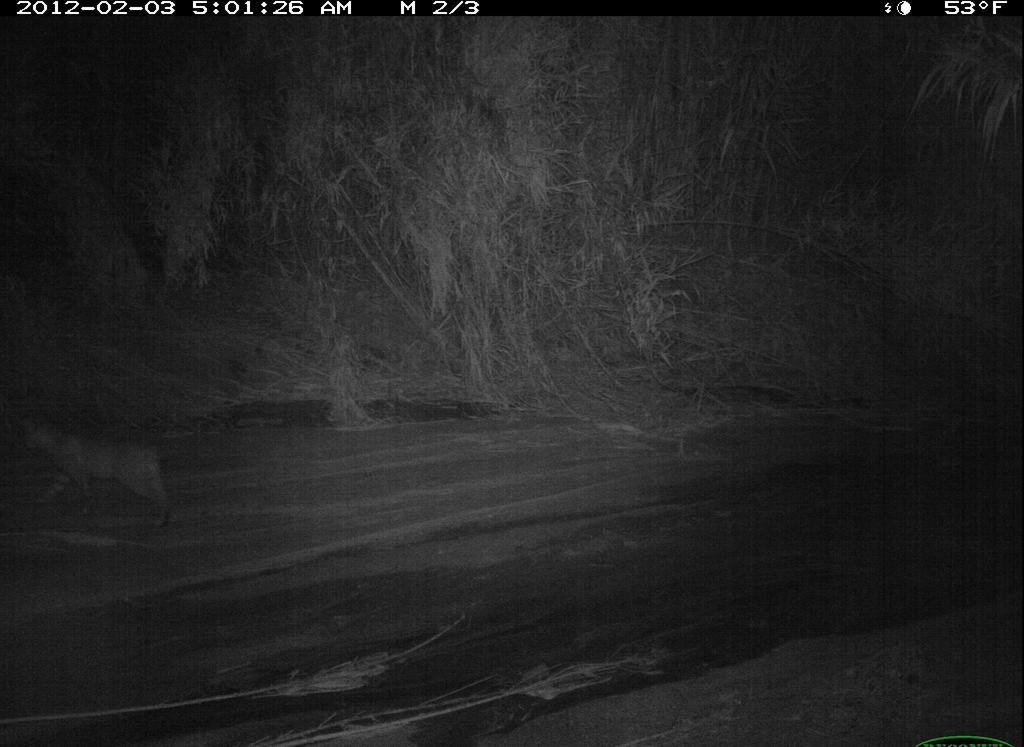bobcat: (9, 405, 181, 538)
